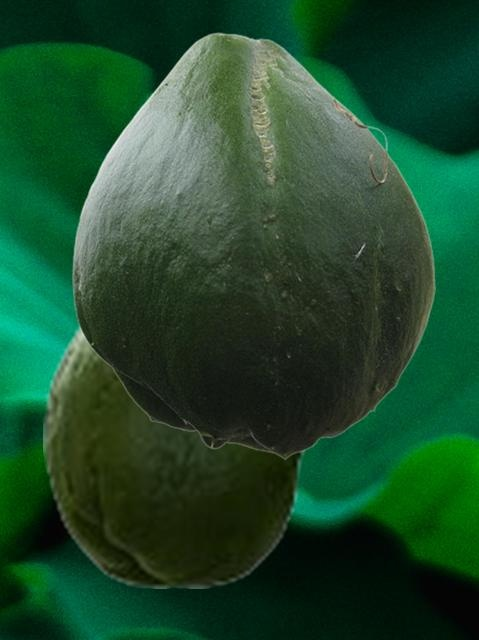sayote: (72, 32, 434, 459), (43, 319, 312, 587)
